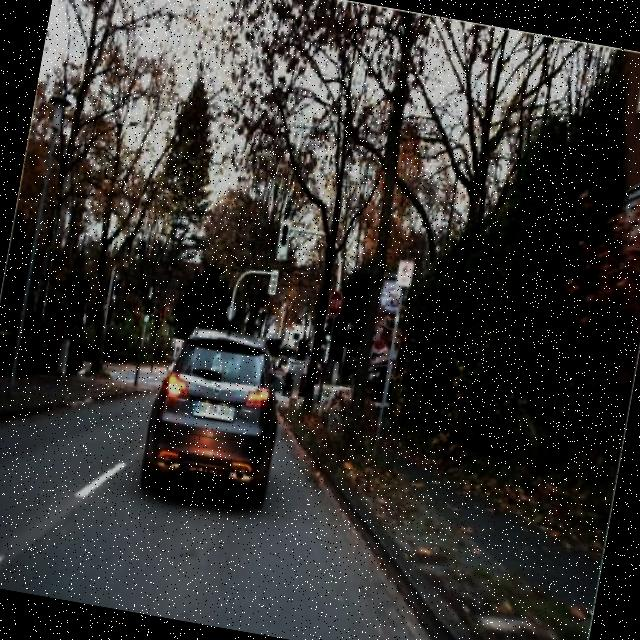Stop: (324, 288, 345, 320)
